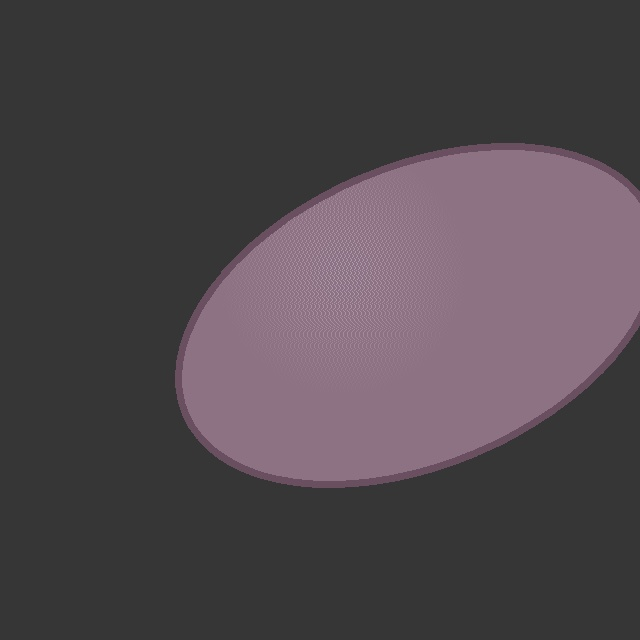lens: (178, 147, 640, 483)
